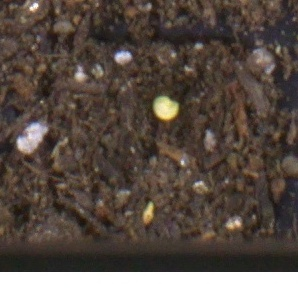chilli seed: (151, 94, 180, 122), (141, 199, 154, 226)
